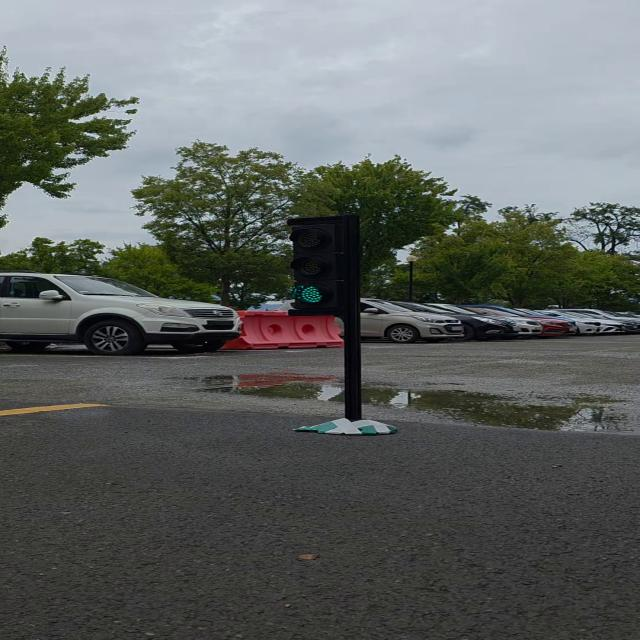green: (291, 219, 358, 312)
